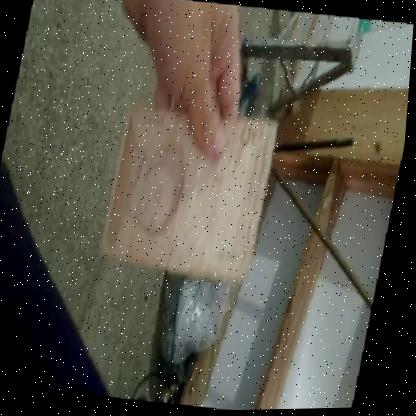five-front-vef: (101, 107, 282, 284)
